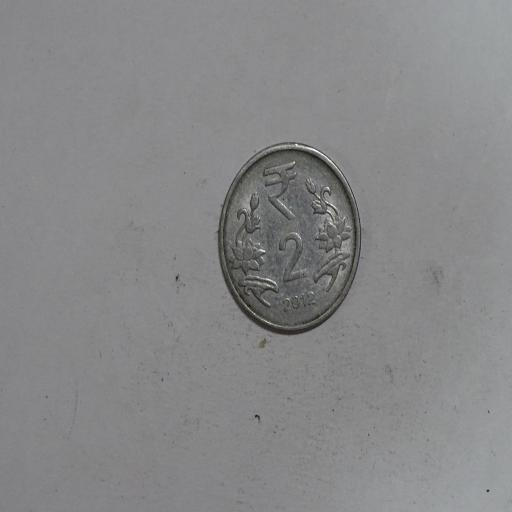rupee2: (211, 140, 360, 337)
